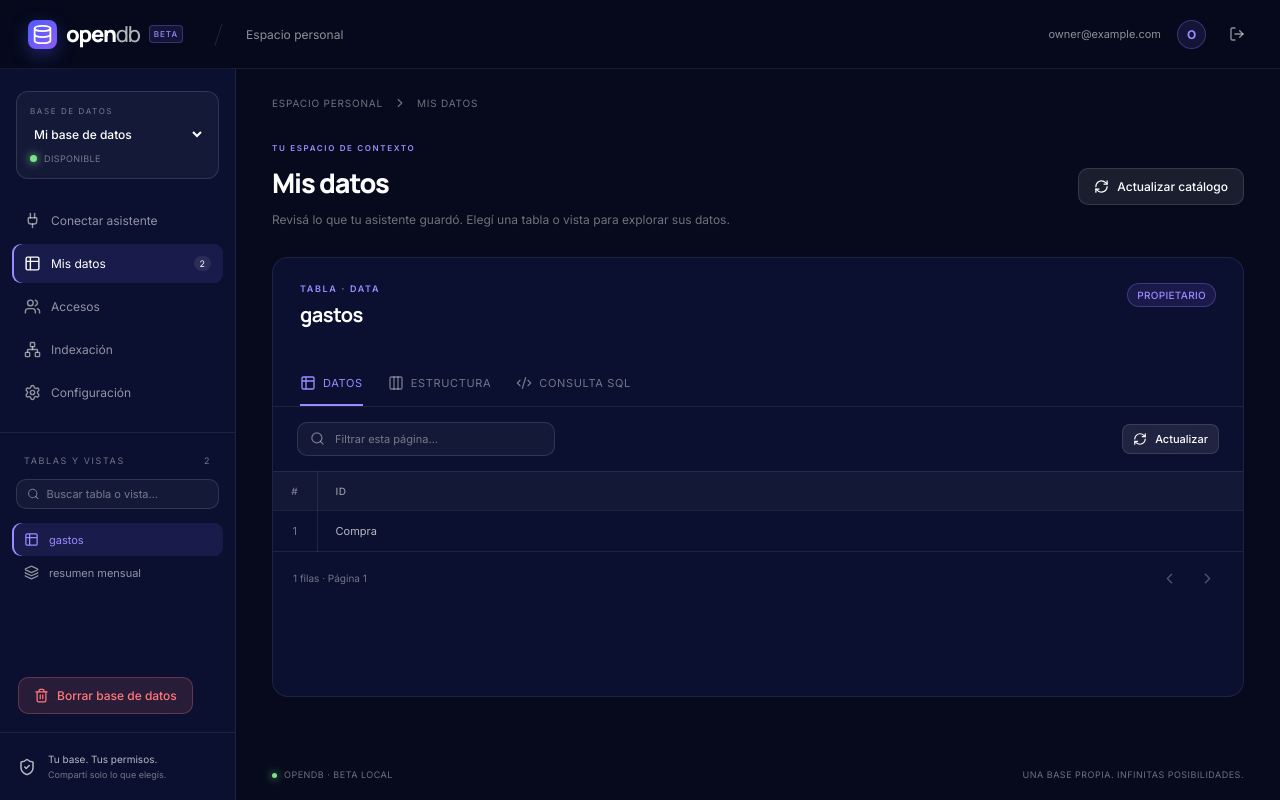
Scenario: switches the query target and resets Explorer using the sidebar
Expected: the text "Compra" is shown, [317, 510, 1243, 551]
Type "ocultar" into the field labelled "Filtrar esta página" at (437, 439), box [332, 429, 542, 449]
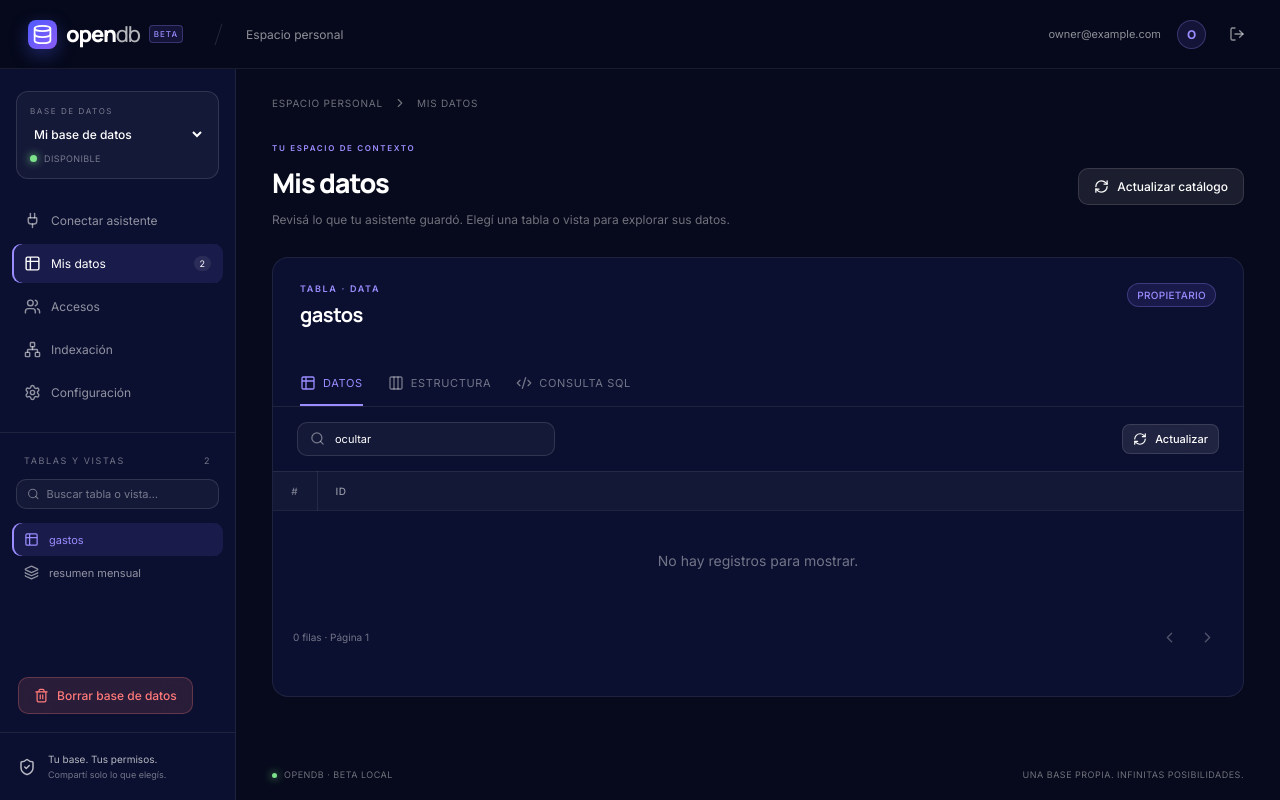
Click the tab "Consulta SQL" at (574, 383), box [516, 361, 631, 406]
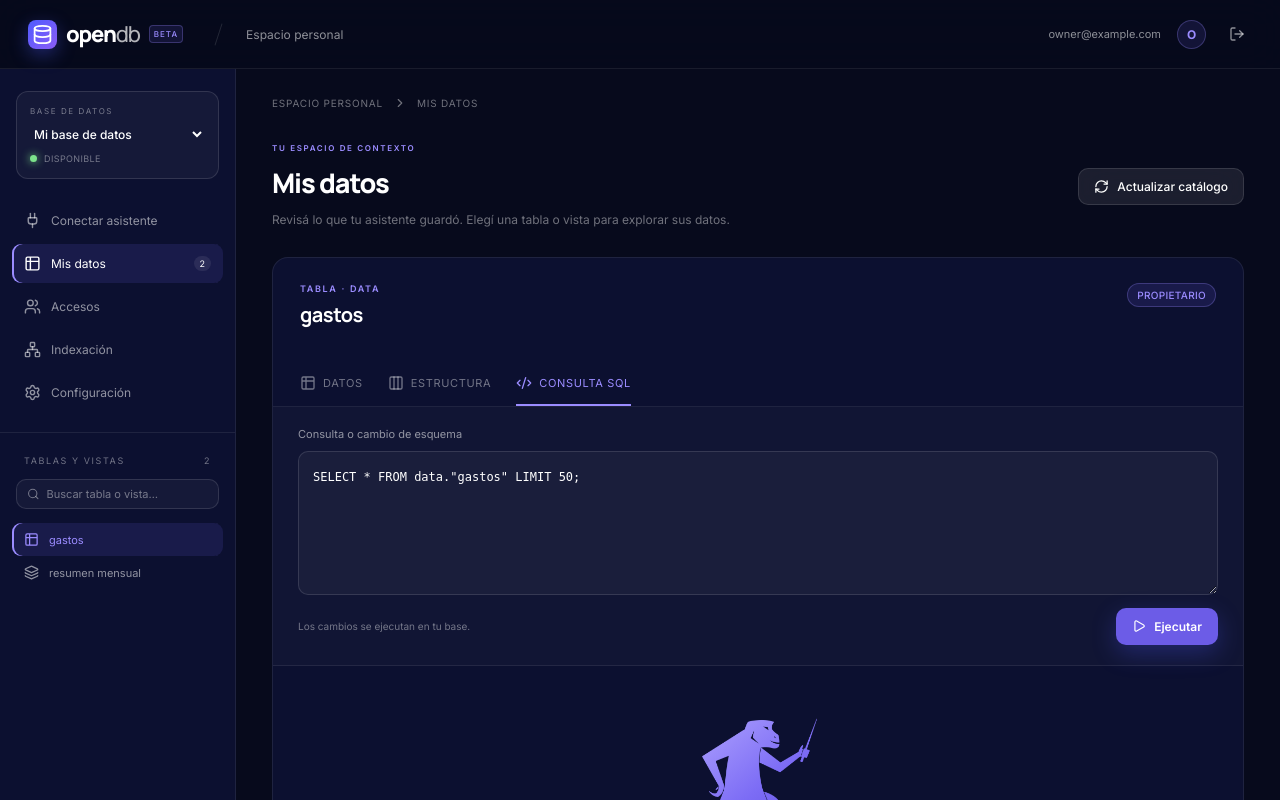
Replace the text in the text box labelled "Consulta o cambio de esquema" with "SELECT 1" at (758, 523), box [298, 451, 1218, 595]
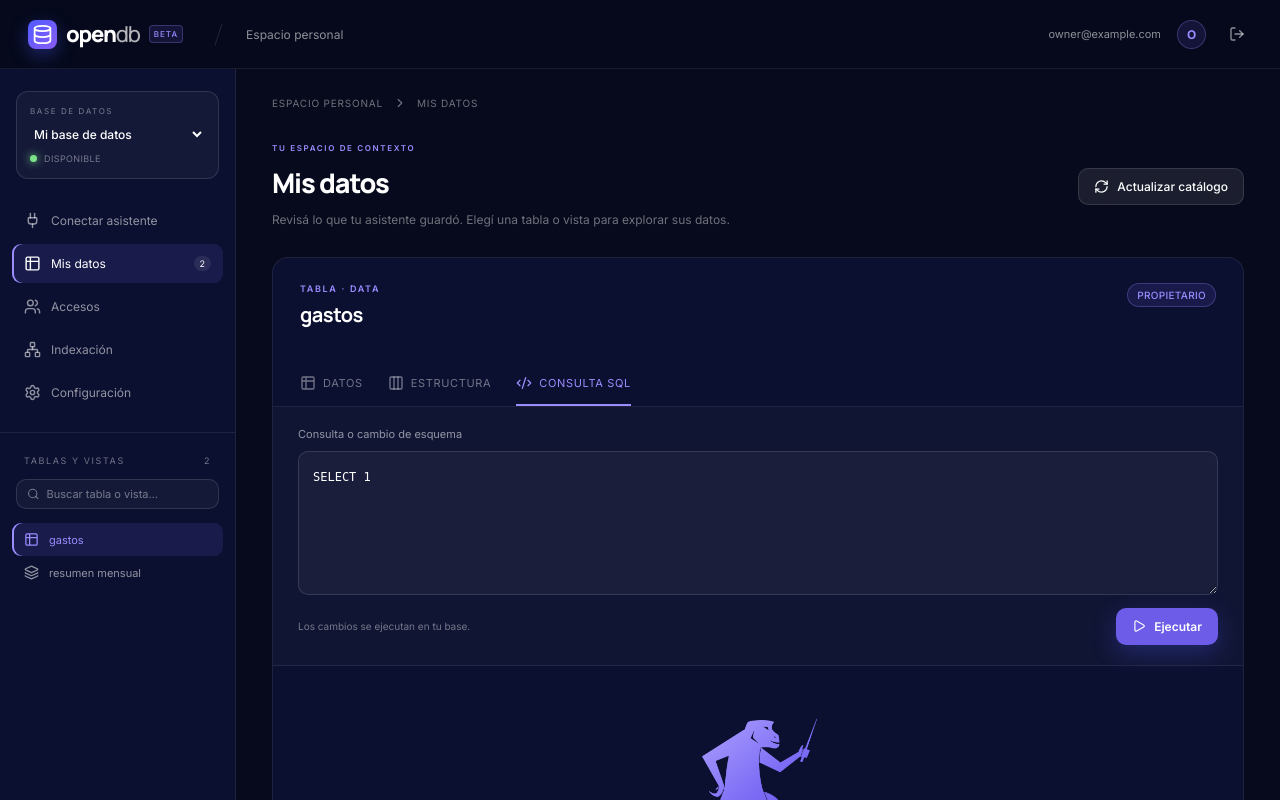
Click the button "resumen mensual" at (118, 572), box [12, 556, 223, 589]
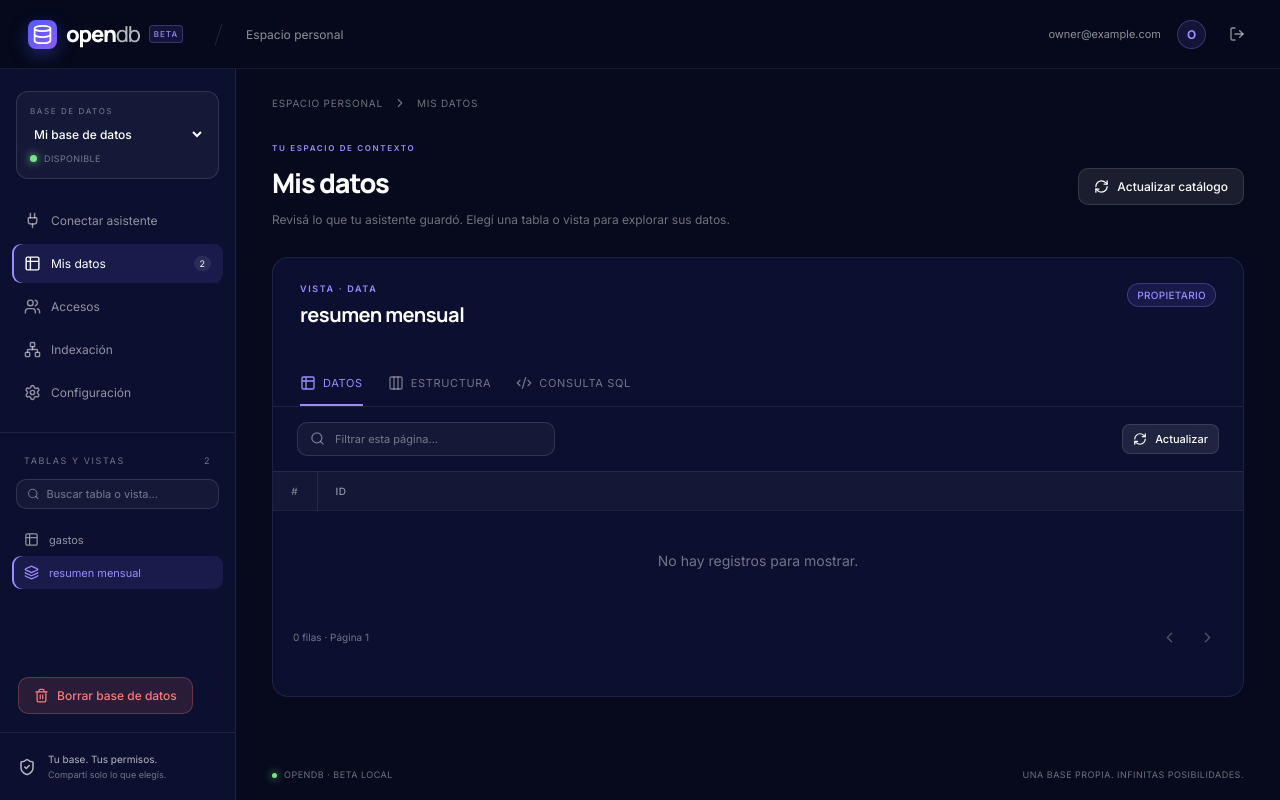
Expected: the text "No hay registros para mostrar." is shown, [658, 552, 858, 569]
Expected: the heading "resumen mensual" is shown, [300, 301, 464, 328]
Expected: the field labelled "Filtrar esta página" is empty, [332, 429, 542, 449]
Clear the field named "Buscar tablas y vistas" at (127, 494), box [46, 487, 208, 501]
Expected: the button "resumen mensual" is marked as current, [12, 556, 223, 589]
Click the tab "Consulta SQL" at (574, 383), box [516, 361, 631, 406]
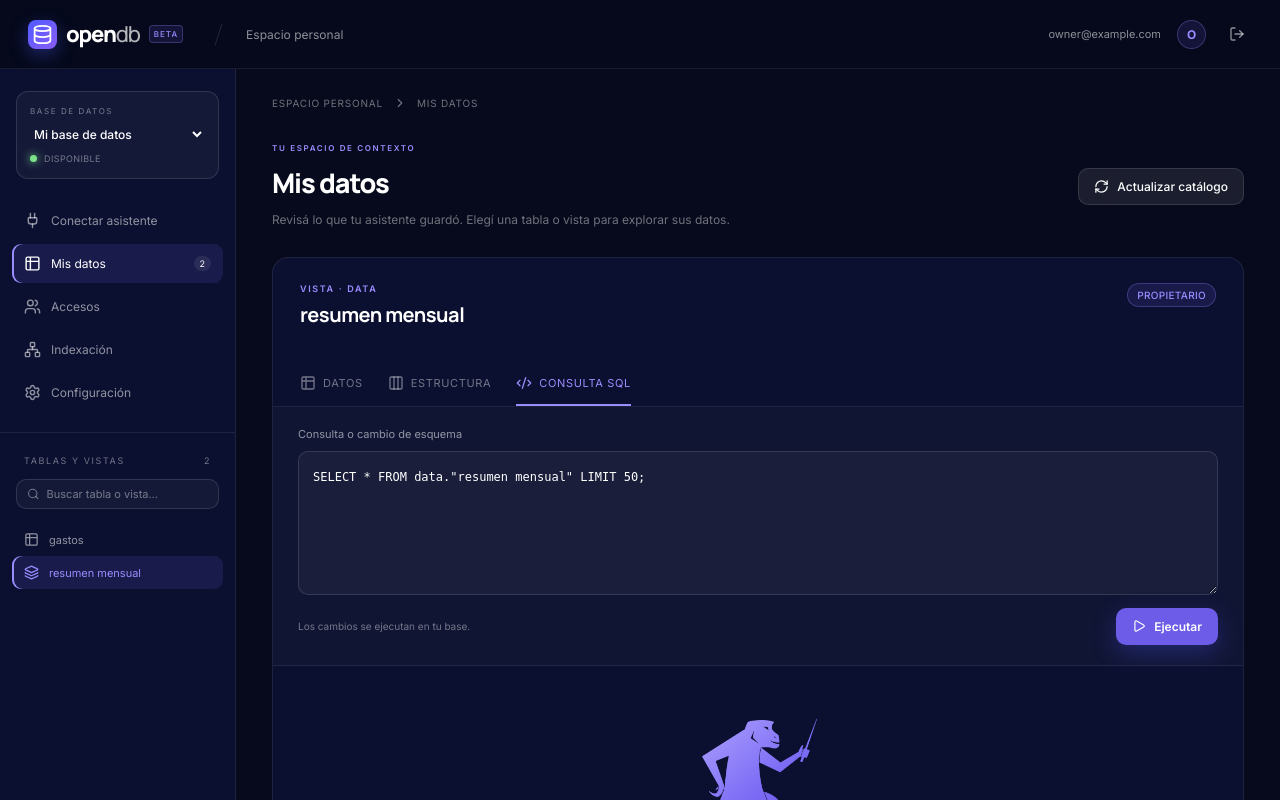
Expected: the text box labelled "Consulta o cambio de esquema" holds "SELECT * FROM data.\"resumen mensual\" LIMIT 50;", [298, 451, 1218, 595]
Click the button "gastos" at (118, 540), box [12, 523, 223, 556]
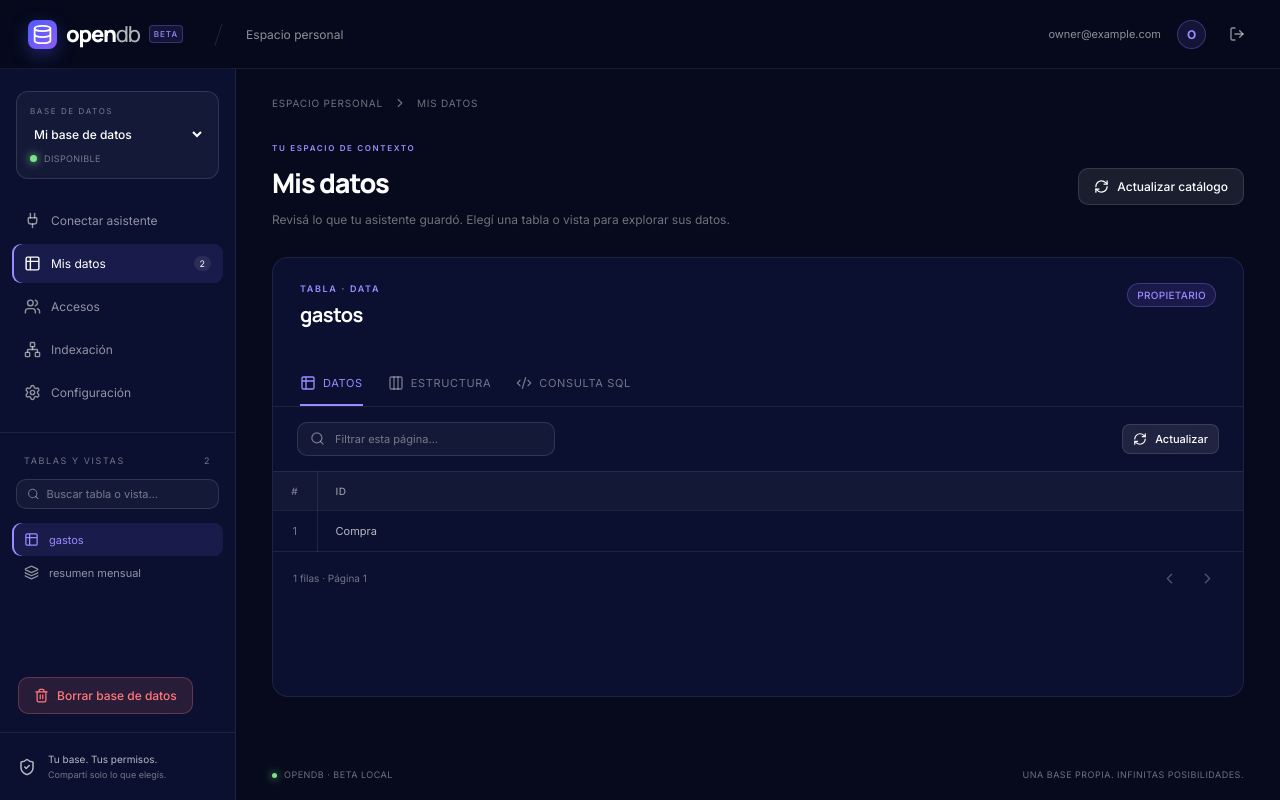
Expected: the text "Compra" is shown, [317, 510, 1243, 551]
